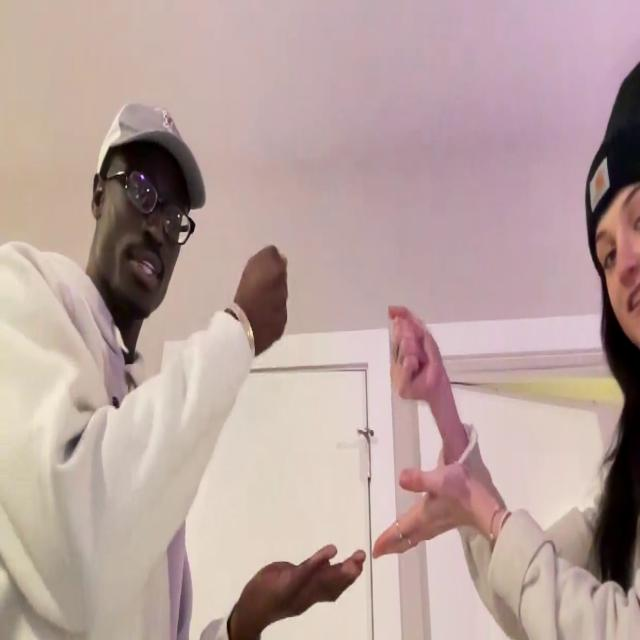Rock: (238, 242, 290, 356), (388, 305, 441, 405)
